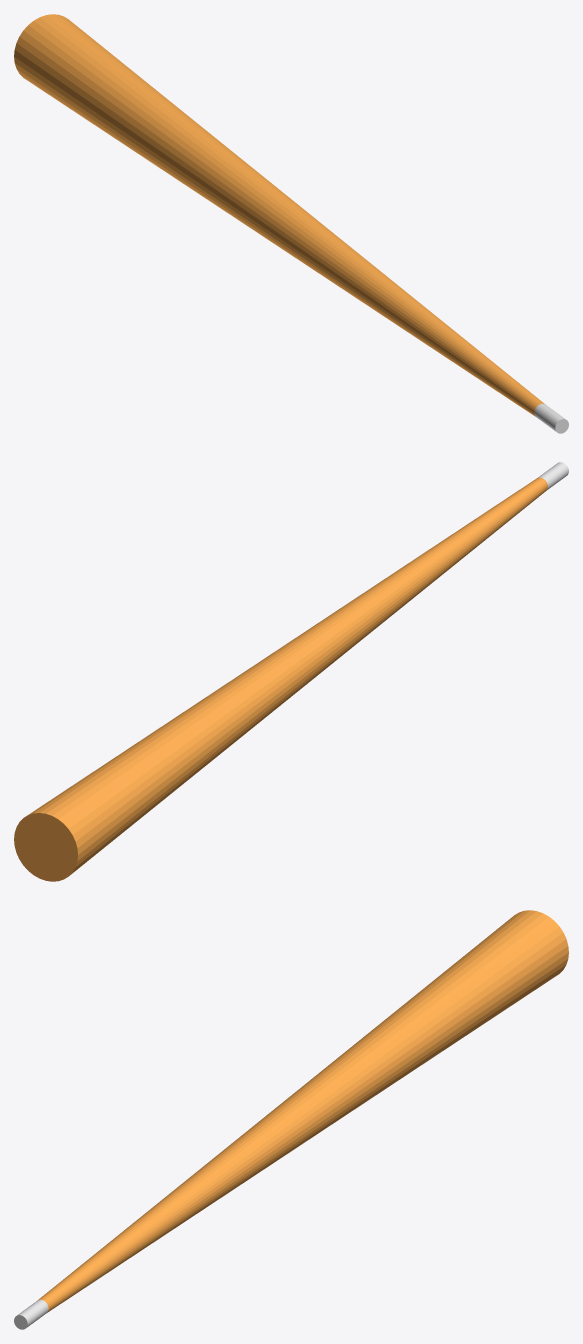
File: uploads_files_1843765_cue_stick.fbx
3 views of the same model, one above another, from view 1: azimuth 30°, elevation 25°; view 2: azimuth 150°, elevation 25°; view 3: azimuth 330°, elevation 25° (orthographic).
Parts seen in each view (by area): view 1: cue_stick; view 2: cue_stick; view 3: cue_stick.
Boxes of the visible parts, bbox=[...] form: cue_stick: bbox=[14, 14, 568, 433]; cue_stick: bbox=[14, 462, 568, 881]; cue_stick: bbox=[14, 910, 568, 1329].
Bounding box in the file's own units: 90.94 × 90.94 × 1268.
